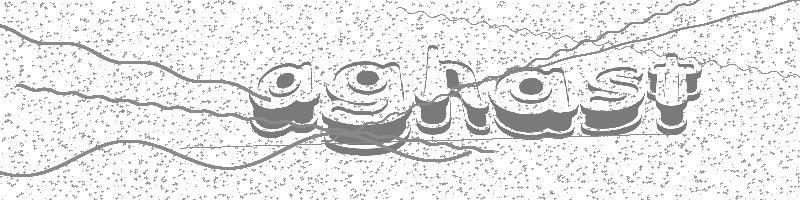a: (488, 65, 580, 142), (248, 61, 322, 139)
g: (321, 60, 413, 157)
h: (414, 43, 491, 137)
s: (581, 65, 646, 137)
t: (646, 52, 704, 137)
